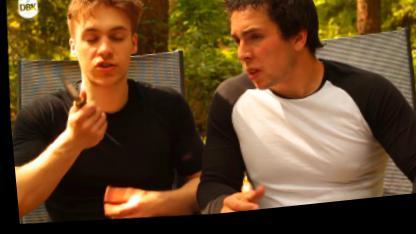knife: (49, 65, 113, 135)
